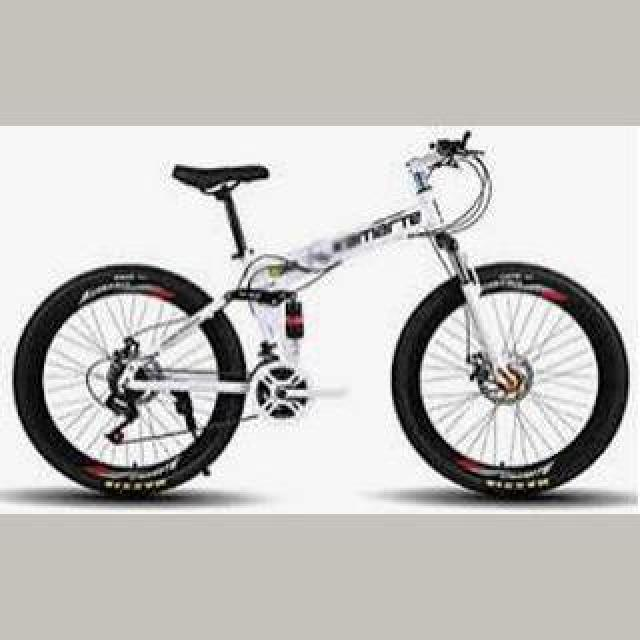Person: (12, 130, 630, 496)
